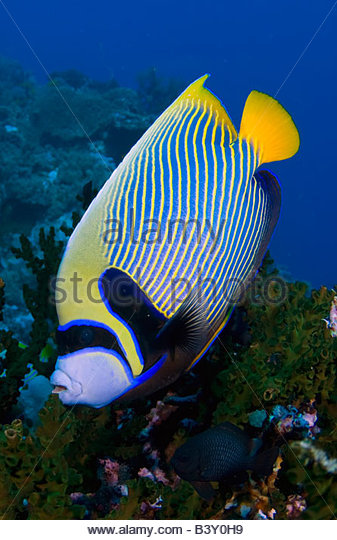Pomacanthus_imperator: (37, 60, 302, 426)
